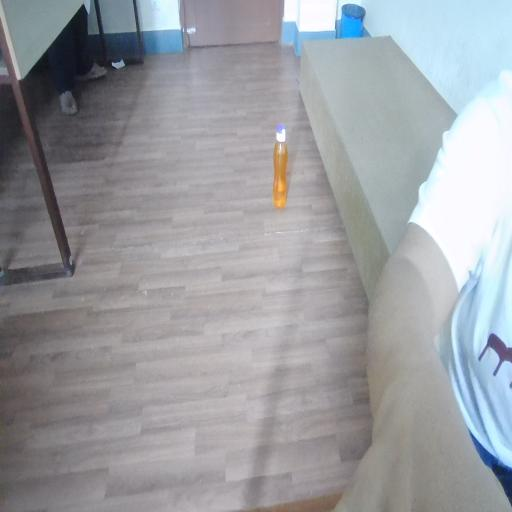Bottle: (268, 129, 315, 239)
